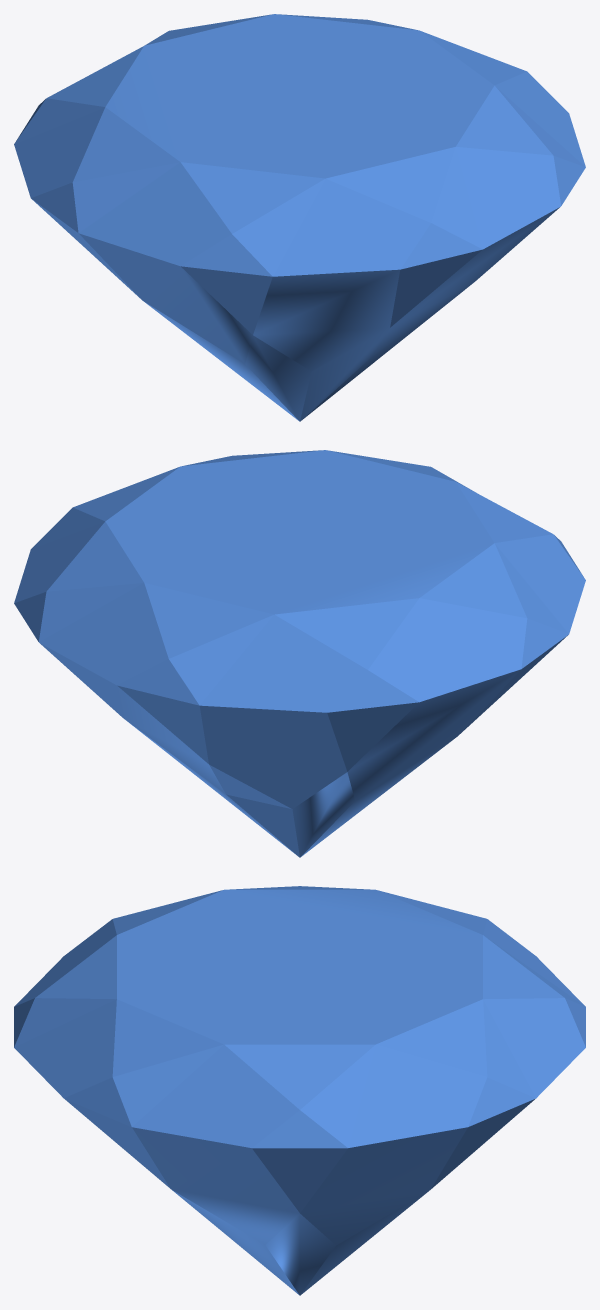
File: DiamondGem.obj
The picture shows the model from 3 angles, top to bottom: view 1: azimuth 30°, elevation 25°; view 2: azimuth 150°, elevation 25°; view 3: azimuth 270°, elevation 25°; orthographic projection.
Parts seen in each view (by area): view 1: Cone001; view 2: Cone001; view 3: Cone001.
Part boxes in pixels (x1,y1,x2,y2): Cone001: [14, 14, 585, 421]; Cone001: [14, 450, 585, 857]; Cone001: [14, 886, 585, 1295].
Bounding box in the file's own units: 18.69 × 11.86 × 18.69.
